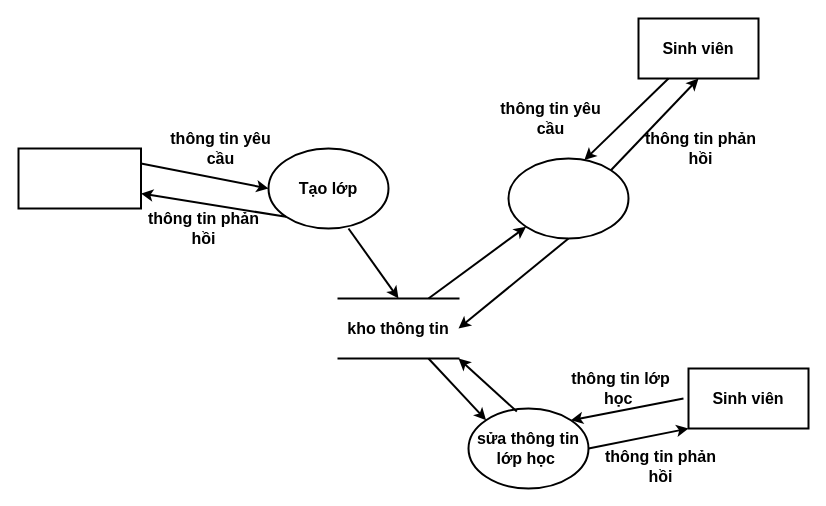
Image size: 826x506. Some labels were removed from this diagram. Here are the shapes that lost their labels. From the top down, the box of each, then its label:
(17, 147, 142, 209): Giảng viên
(507, 157, 629, 239): Tham gia lớp
